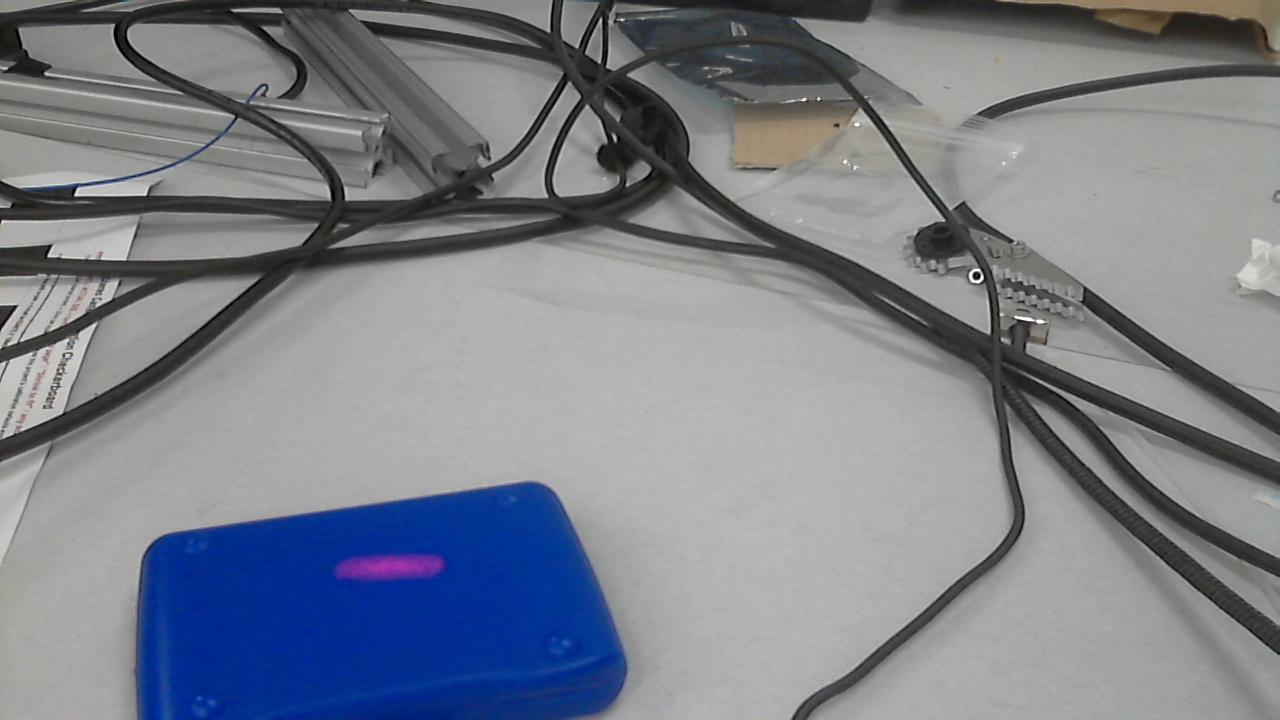Object plastic first aid kit - Material plastic -Color blue -Pdfname 6lew56E5S7E: (318, 544, 459, 590)
